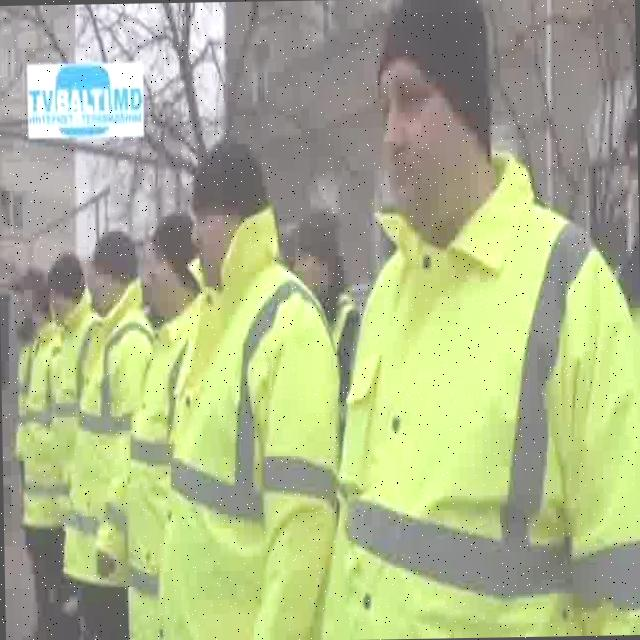vest: (313, 144, 640, 640), (148, 202, 344, 640), (56, 272, 162, 590), (119, 284, 206, 640), (46, 286, 101, 540), (18, 320, 71, 540)
